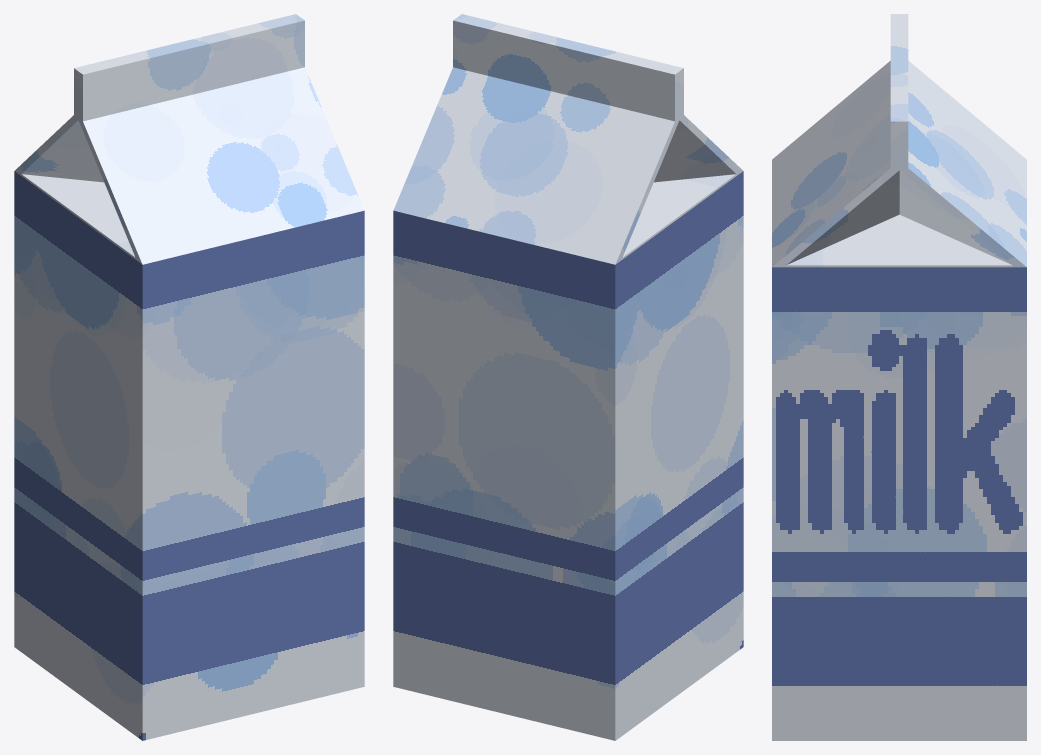
File: carton_of_milk.glb
3 views of the same model, side by side, from view 1: azimuth 30°, elevation 25°; view 2: azimuth 150°, elevation 25°; view 3: azimuth 270°, elevation 25° (orthographic).
Parts seen in each view (by area): view 1: Cube; view 2: Cube; view 3: Cube.
Boxes of the visible parts, <box> form: Cube: <box>14,14,364,740</box>; Cube: <box>393,14,743,740</box>; Cube: <box>772,14,1026,740</box>.
Bounding box in the file's own units: 11 × 29.48 × 11.
1 material, 1 textured.
